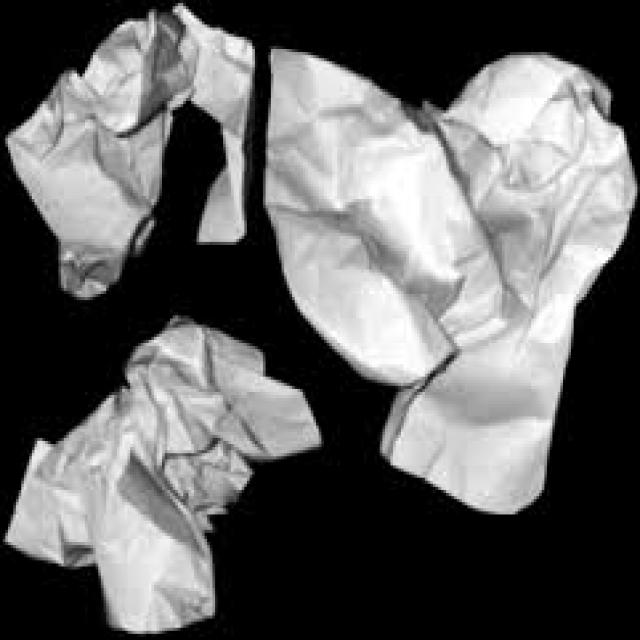Paper -Biodegradable-: (260, 52, 634, 511), (5, 317, 320, 630), (5, 10, 253, 297)
